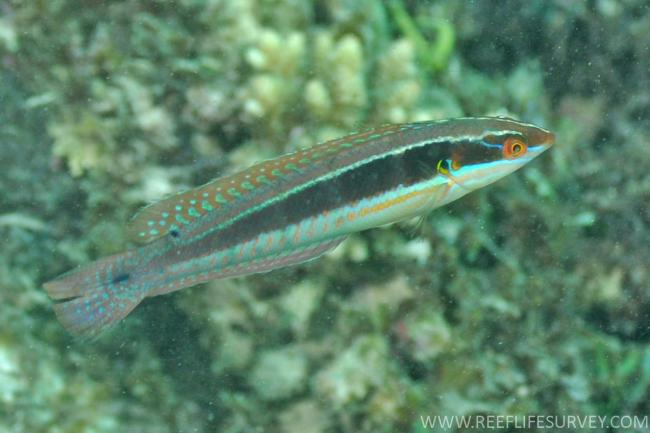fish: (43, 115, 557, 345)
